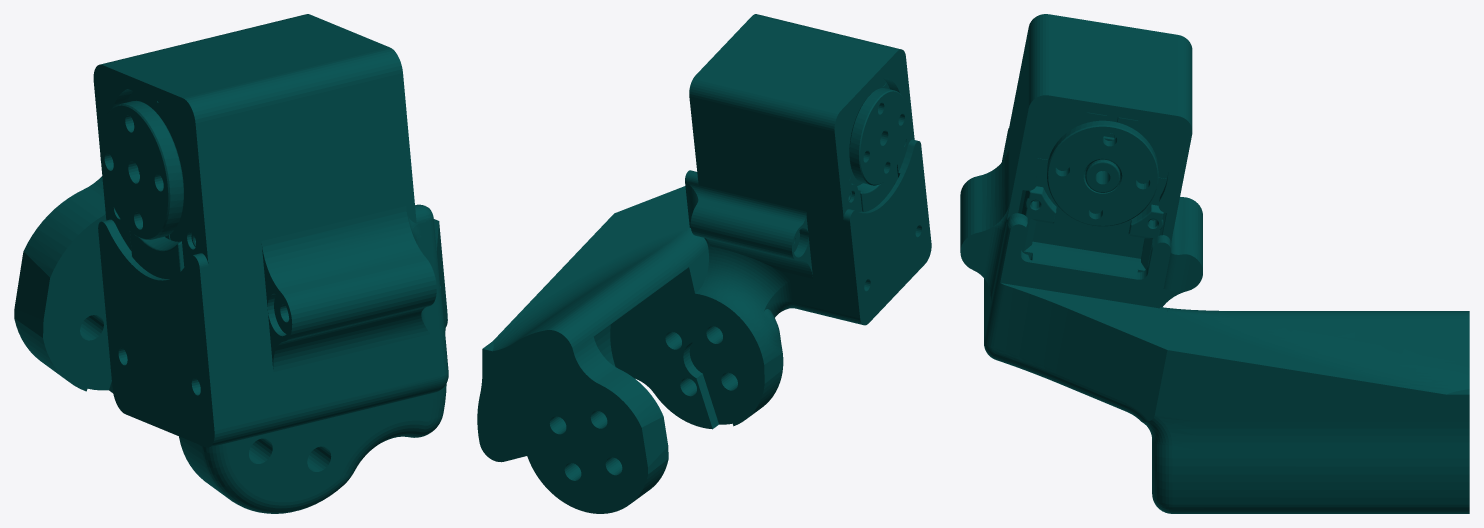
File: leg_right_hip_roll_visuals.obj
3 renders of one model, left to right at view 1: azimuth 30°, elevation 25°; view 2: azimuth 150°, elevation 25°; view 3: azimuth 270°, elevation 25°, orthographic. The views are drawn at different scales.
Size of the model in its own units: 0.0561 by 0.0776 by 0.0874.
